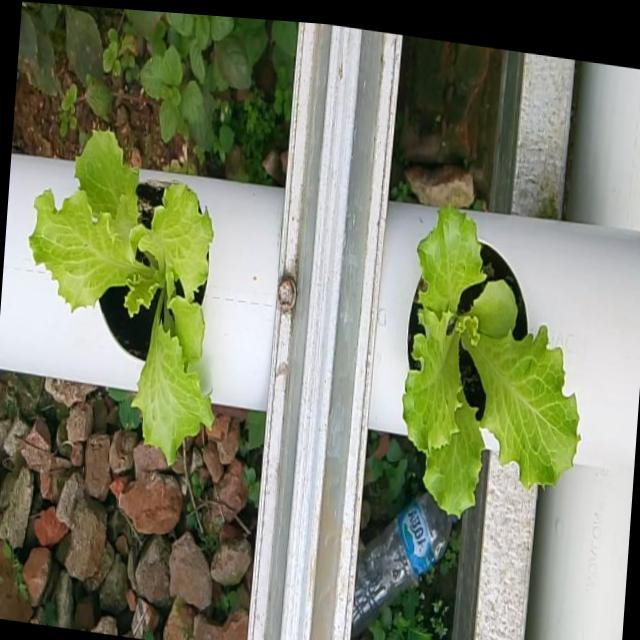Baby: (28, 127, 212, 460), (398, 201, 576, 515)
